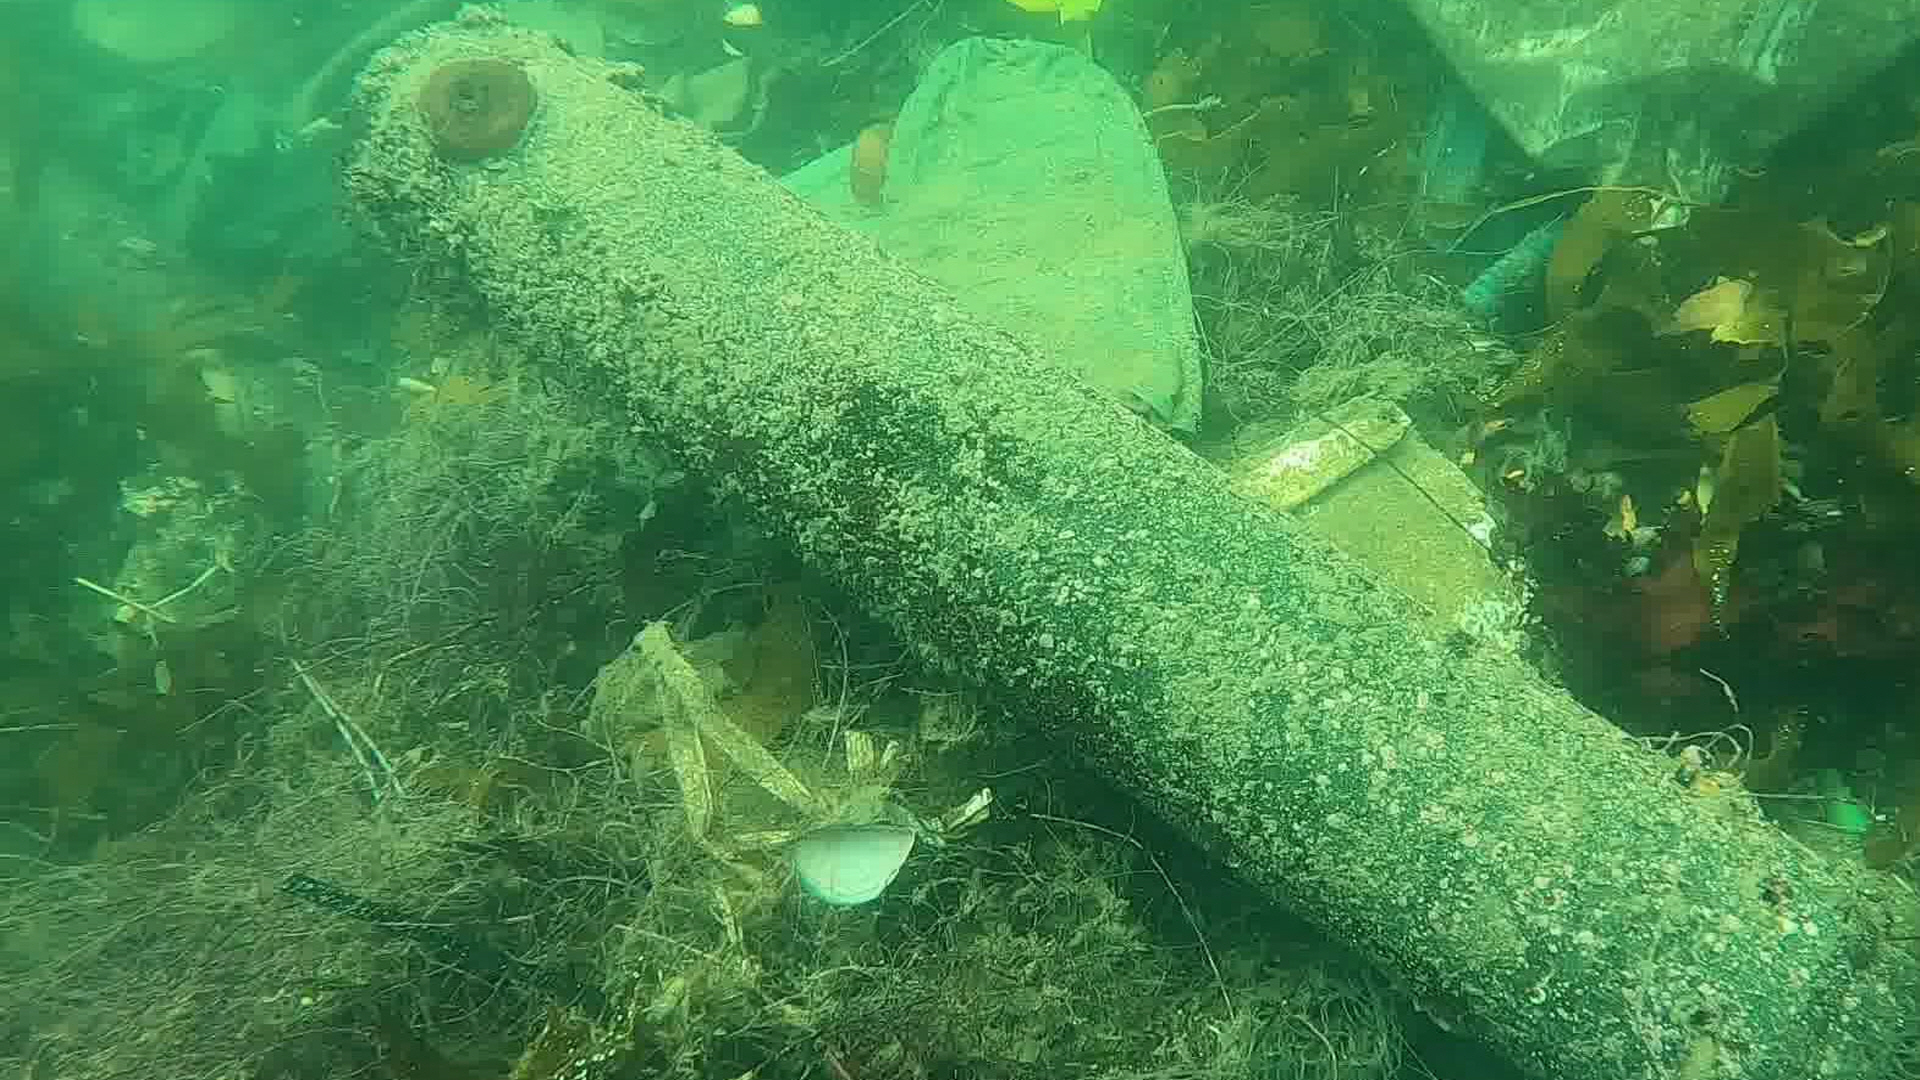eel fish trap: (340, 18, 1920, 1080)
